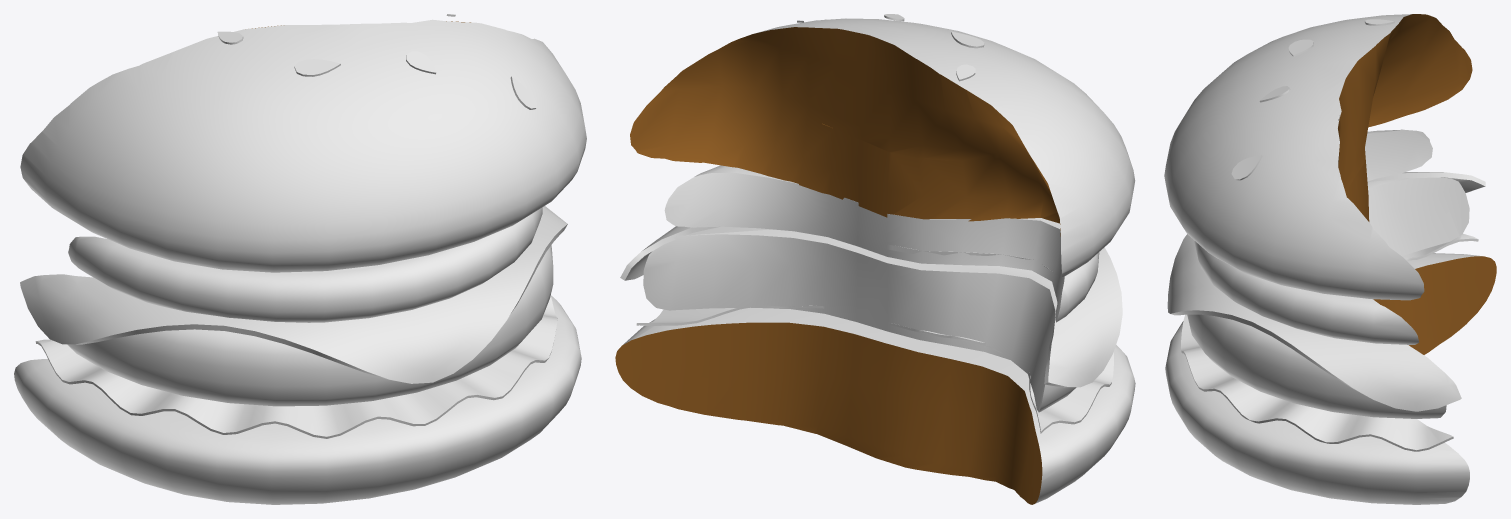
Rendered from food1animated 3rd).fbx.
3 renders of one model, left to right at view 1: azimuth 30°, elevation 25°; view 2: azimuth 150°, elevation 25°; view 3: azimuth 270°, elevation 25°, orthographic. The views are drawn at different scales.
Visible parts, largest first — view 1: Circle.005; view 2: Circle.005; view 3: Circle.005.
Part boxes in pixels (left/top/right/bottom): Circle.005: left=14, top=14, right=586, bottom=504; Circle.005: left=615, top=14, right=1135, bottom=504; Circle.005: left=1164, top=14, right=1496, bottom=504.
Size of the model in its own units: 193 by 161 by 126.
